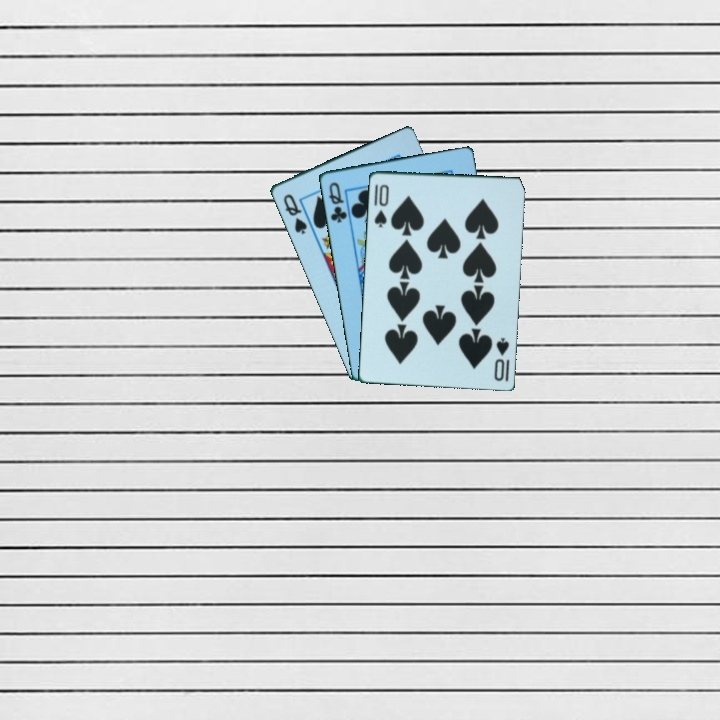10s: (490, 334, 512, 384), (370, 180, 392, 229)
Qc: (325, 178, 349, 225)
Qs: (279, 190, 310, 236)
